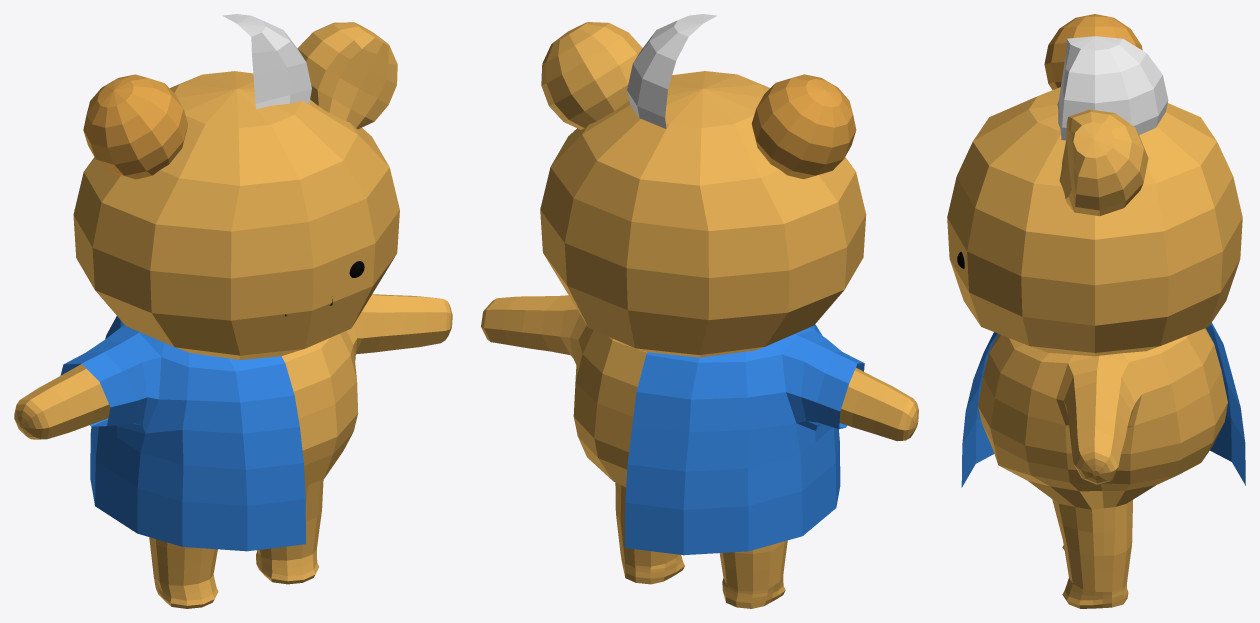
Rendered from minbeartest.gltf.
3 renders of one model, left to right at view 1: azimuth 30°, elevation 25°; view 2: azimuth 150°, elevation 25°; view 3: azimuth 270°, elevation 25°, orthographic. The views are drawn at different scales.
Visible parts, largest first — view 1: Head 2, Dress, Body, Ears, Ear 2, Ear 2.001; view 2: Head 2, Dress, Body, Ears, Ear 2, Ear 2.001; view 3: Head 2, Body, Ear 2.001, Ear 2, Dress, Ears.
Boxes of the visible parts, x1,y1,x2,y2 form: Head 2: (73, 71, 399, 360); Dress: (60, 316, 305, 551); Body: (14, 294, 452, 608); Ears: (83, 74, 187, 179); Ear 2: (297, 22, 397, 129); Ear 2.001: (222, 14, 311, 109); Head 2: (540, 71, 866, 357); Dress: (625, 324, 864, 555); Body: (481, 295, 918, 608); Ears: (751, 74, 856, 179); Ear 2: (541, 22, 642, 129); Ear 2.001: (627, 14, 716, 128); Head 2: (947, 87, 1242, 356); Body: (978, 328, 1227, 608); Ear 2.001: (1057, 36, 1168, 140); Ear 2: (1059, 109, 1148, 216); Dress: (961, 322, 1245, 487); Ears: (1044, 14, 1142, 89).
Bounding box in the file's own units: 2.68 × 3.33 × 1.67.
